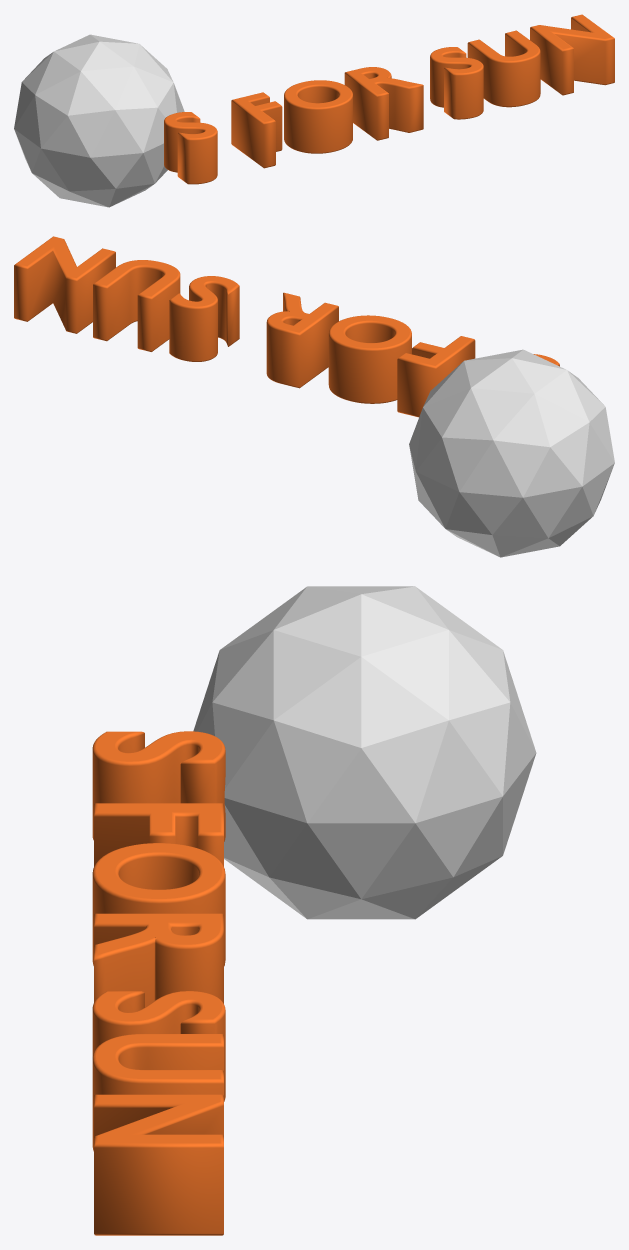
The model's file is SUN TEXT.fbx.
3 renders of one model, top to bottom at view 1: azimuth 30°, elevation 25°; view 2: azimuth 150°, elevation 25°; view 3: azimuth 270°, elevation 25°, orthographic. The views are drawn at different scales.
Visible parts, largest first — view 1: Text.001, Icosphere; view 2: Icosphere, Text.001; view 3: Icosphere, Text.001.
Boxes of the visible parts, left/top/right/bottom form: Text.001: left=164, top=14, right=614, bottom=184; Icosphere: left=14, top=34, right=184, bottom=207; Icosphere: left=409, top=349, right=614, bottom=557; Text.001: left=14, top=236, right=559, bottom=417; Icosphere: left=193, top=586, right=536, bottom=919; Text.001: left=92, top=731, right=225, bottom=1235.
Size of the model in its own units: 687 by 200 by 254.
